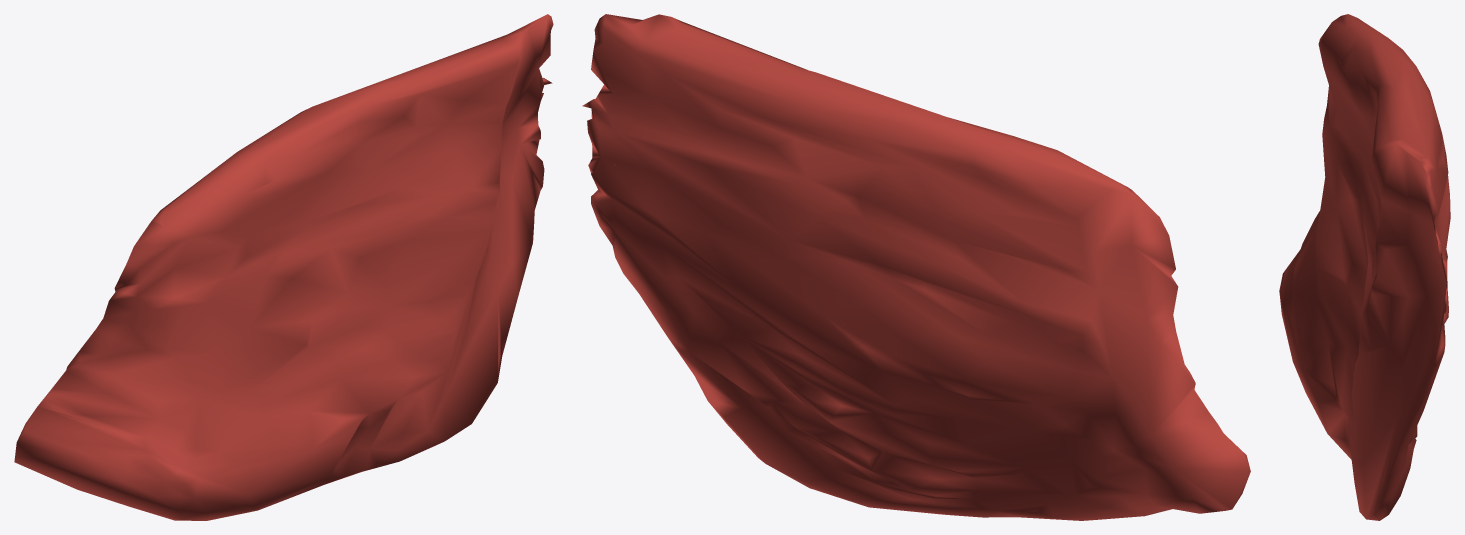
Rendered from musculos-quadratus-femoris-muscle-l.glb.
The picture shows the model from 3 angles, left to right: view 1: azimuth 30°, elevation 25°; view 2: azimuth 150°, elevation 25°; view 3: azimuth 270°, elevation 25°; orthographic projection. The views are drawn at different scales.
Parts seen in each view (by area): view 1: Quadratus femoris muscle.l; view 2: Quadratus femoris muscle.l; view 3: Quadratus femoris muscle.l.
Boxes of the visible parts, <box> form: Quadratus femoris muscle.l: <box>14,14,553,520</box>; Quadratus femoris muscle.l: <box>582,14,1250,520</box>; Quadratus femoris muscle.l: <box>1279,14,1450,520</box>.
Bounding box in the file's own units: 0.0685 × 0.0457 × 0.0161.
